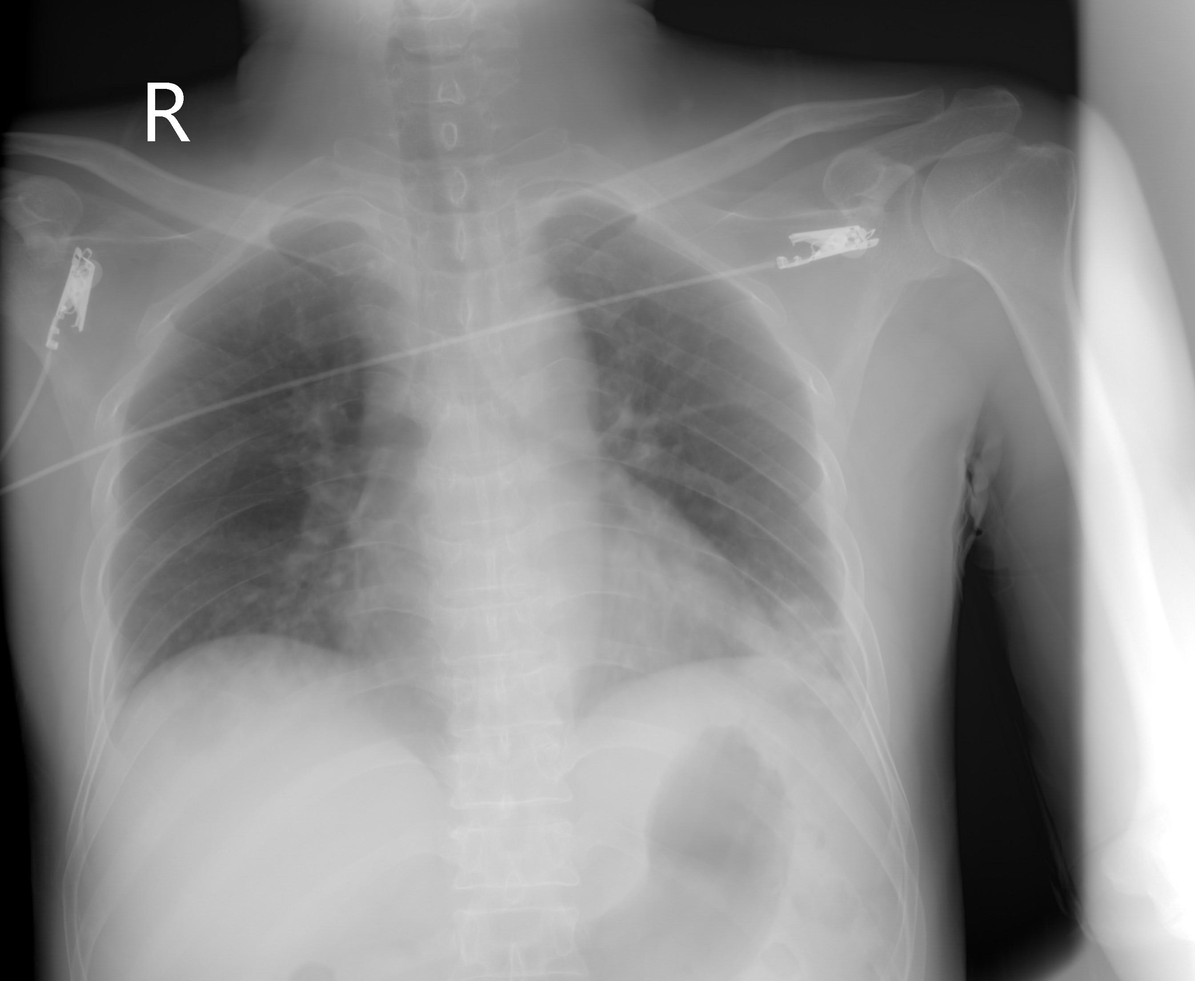Aortic enlargement: (465, 283, 599, 421)
Cardiomegaly: (321, 549, 780, 669)
Pleural thickening: (514, 177, 626, 239), (286, 187, 398, 235)
